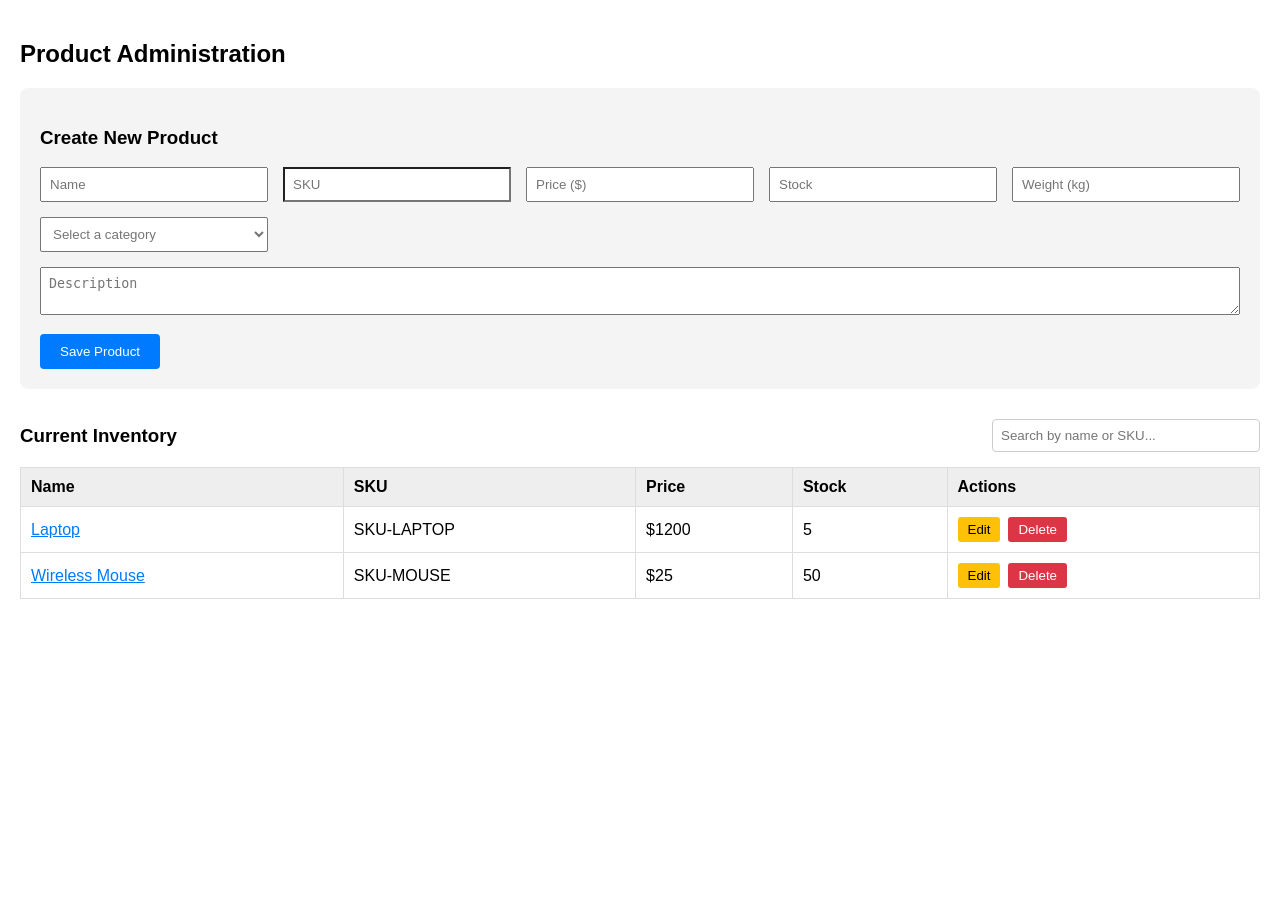
Test: ProductAdmin Component › displays error message when product deletion fails
Expected: the text "Laptop" is shown, [31,521,80,538]
Click the button "Delete" in the row of "SKU-LAPTOP": click(1038, 530) [1008,517,1067,542]
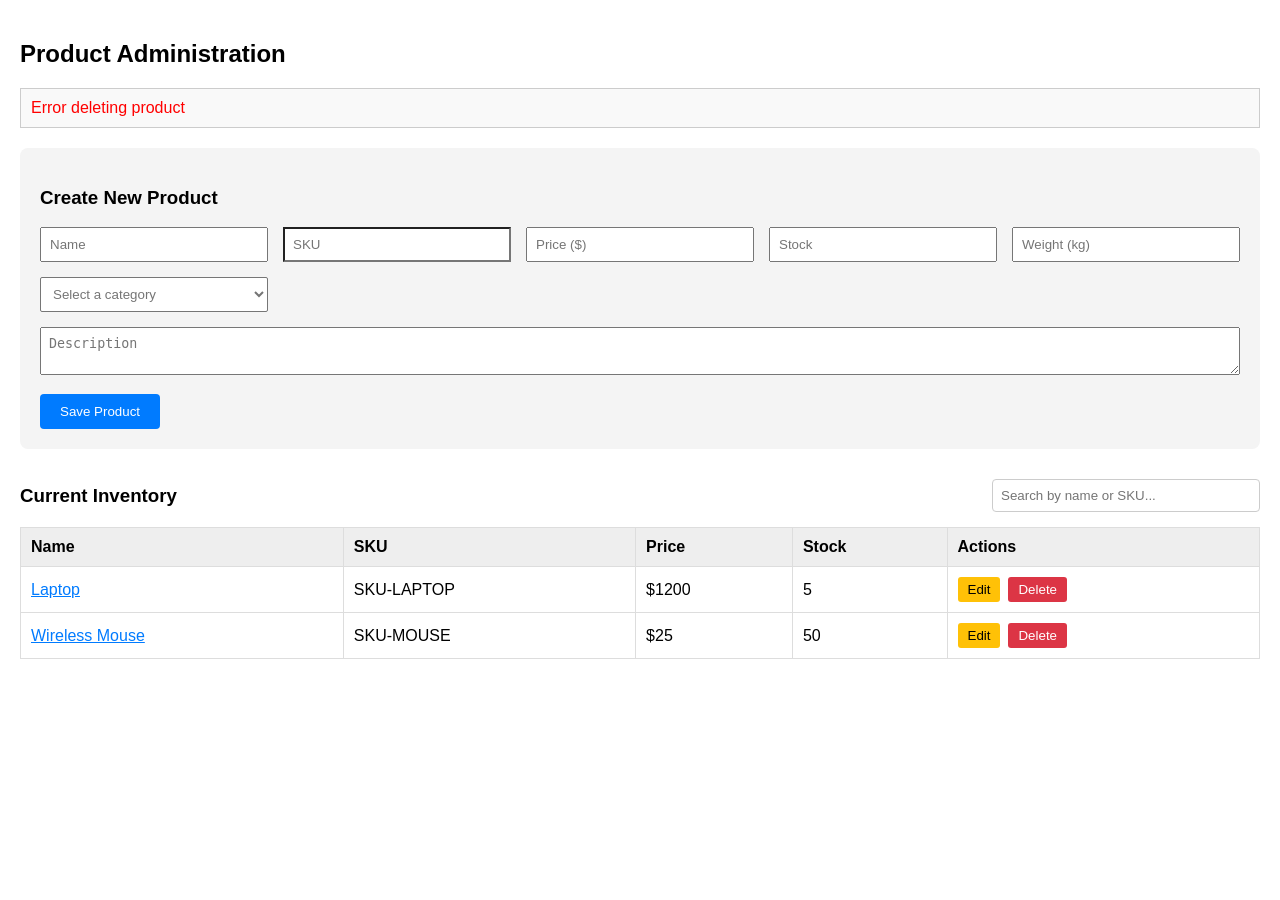
Expected: the text "Error deleting product" is shown, [20,88,1260,128]
